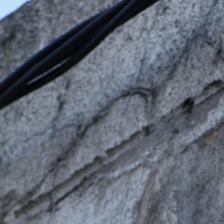Crack: (13, 16, 208, 186)
